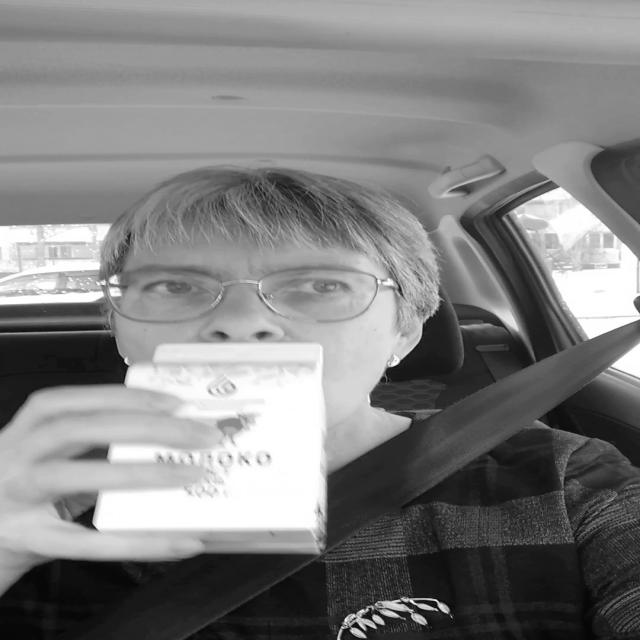Drinking: (98, 343, 347, 560)
Seatbelt: (66, 320, 637, 636)
